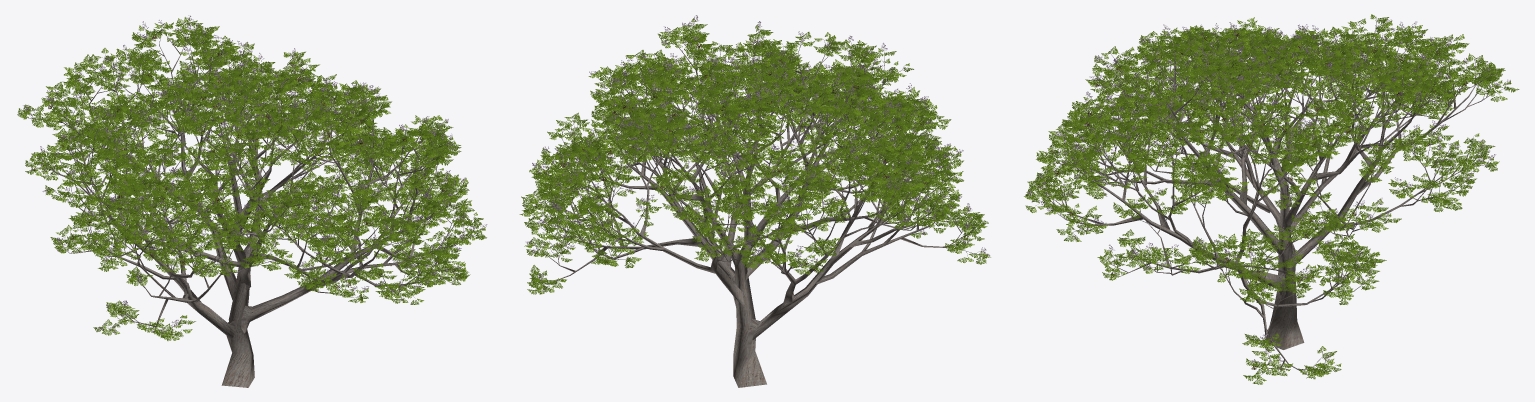
Rendered from Melia azedarach HD_Wild mat 100_LOD3.fbx.
The picture shows the model from 3 angles, left to right: view 1: azimuth 30°, elevation 25°; view 2: azimuth 150°, elevation 25°; view 3: azimuth 270°, elevation 25°; orthographic projection. The views are drawn at different scales.
Parts seen in each view (by area): view 1: Melia_azedarach_HD; view 2: Melia_azedarach_HD; view 3: Melia_azedarach_HD.
Part boxes in pixels (x1,y1,x2,y2): Melia_azedarach_HD: [17, 15, 487, 387]; Melia_azedarach_HD: [519, 15, 990, 387]; Melia_azedarach_HD: [1024, 14, 1519, 384].
Size of the model in its own units: 11.99 by 8.19 by 12.24.
